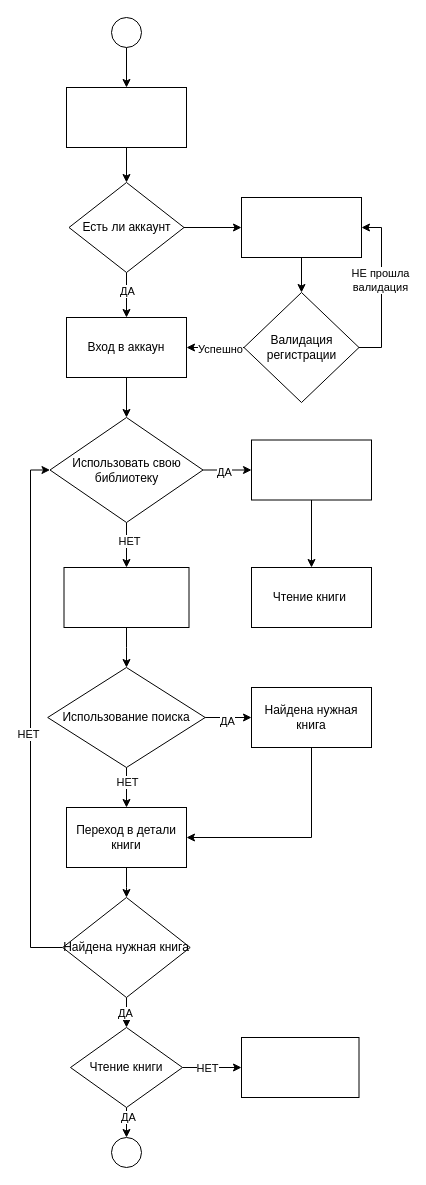
Some shapes in this 426 by 1185 pixel diagram are drawn without their labels. Here are the shapes that lost their labels. From the top down, the centre of each, then its label:
At point 126,117: "Пользователь входит в приложение".
At point 301,227: "Регистрация".
At point 311,469: "Переход в детали книги из библиотеки".
At point 126,597: "Поиск книги в катологе".
At point 299,1067: "Заказ книги".
